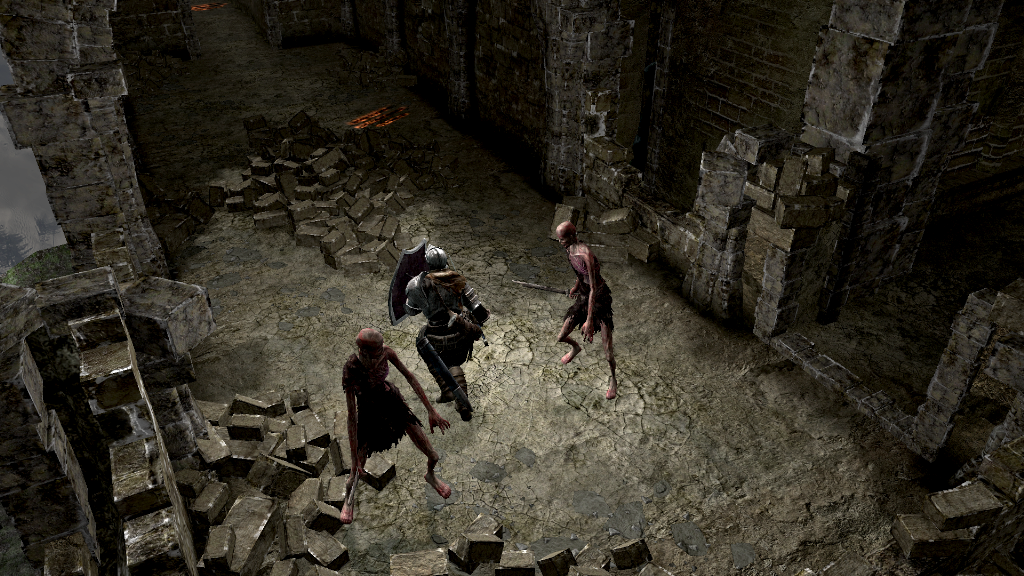hollow: (339, 326, 454, 524), (553, 221, 621, 400)
player: (386, 236, 489, 424)
